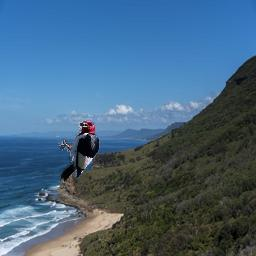Woodpecker: (56, 116, 100, 184)
